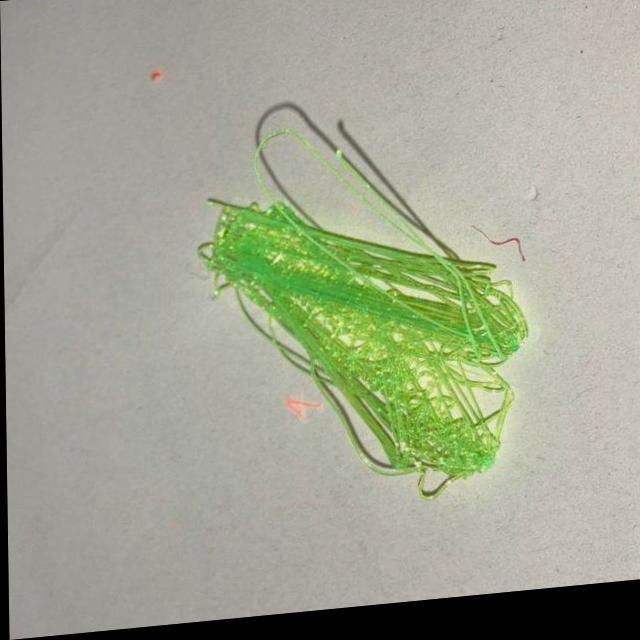spaghetti: (188, 180, 535, 516)
